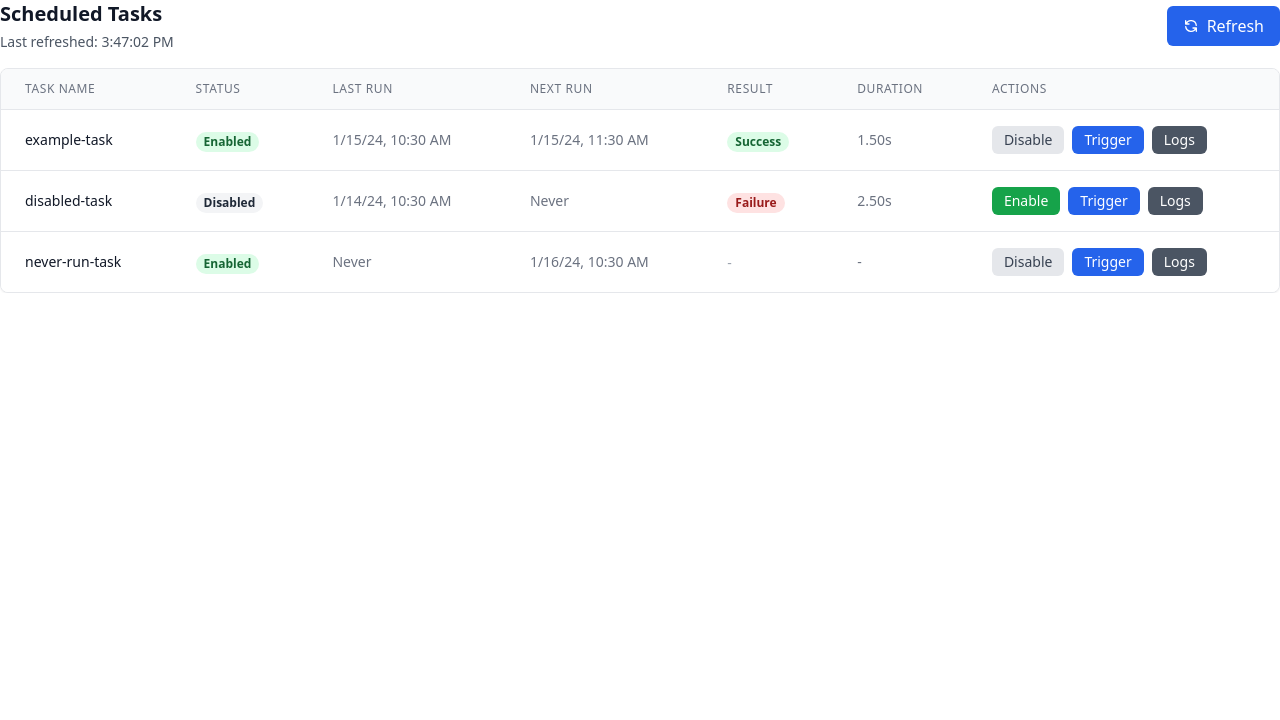
Scenario: ScheduledTasksTab › View logs modal opening and display › should show loading state while fetching execution history
Expected: the text "example-task" is shown, [25,130,113,149]
Click the button "Logs" in the row of "example-task": [1179, 140] box [1152,126,1207,154]
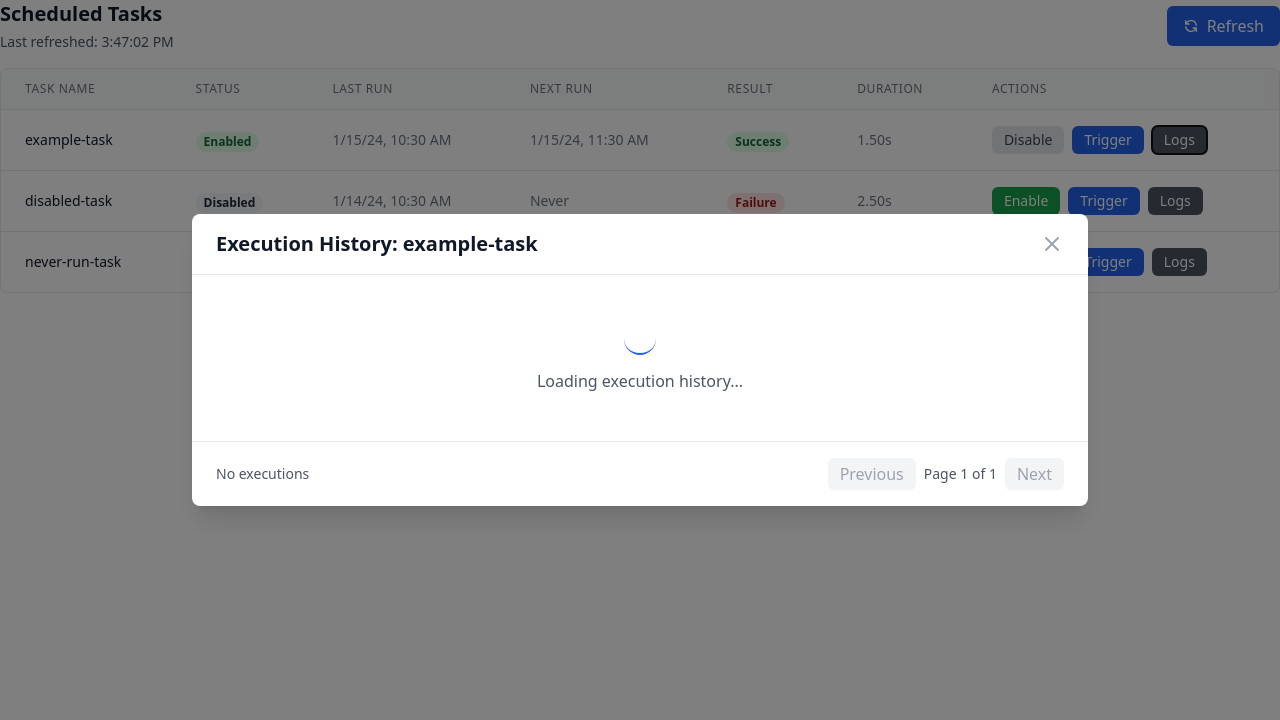
Expected: the text "Loading execution history..." is shown, [537,370,743,392]
